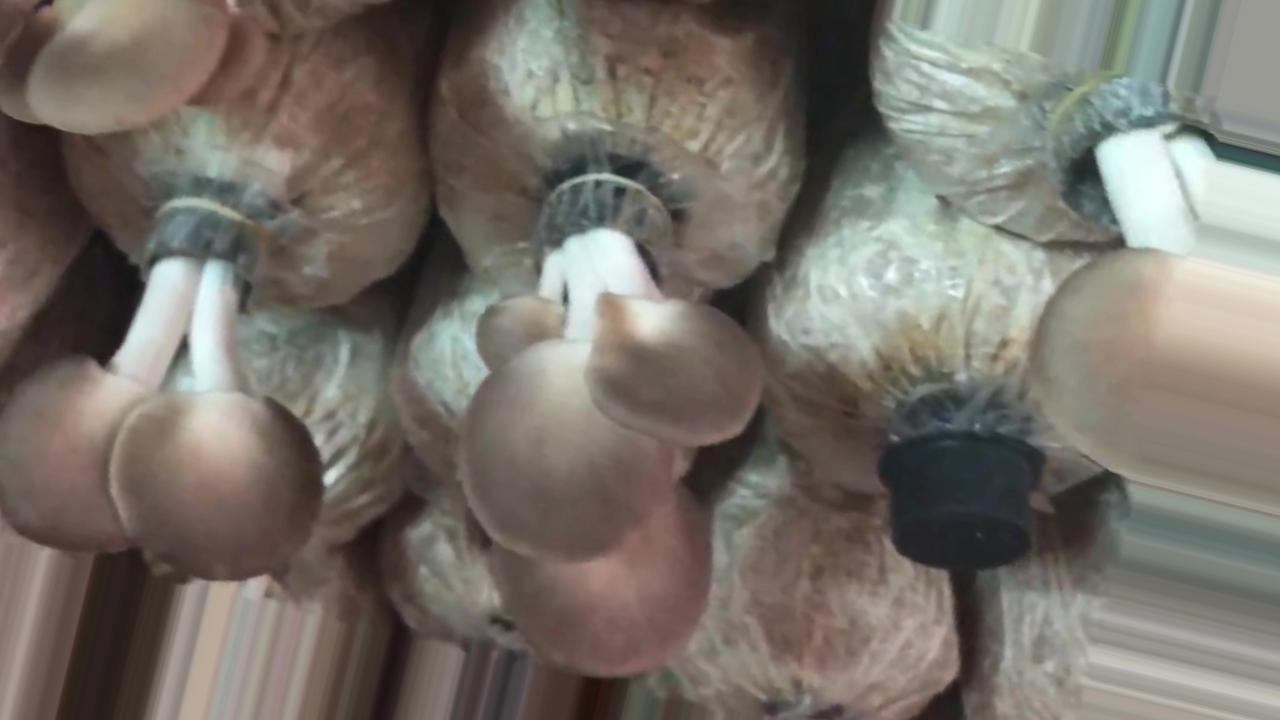nam: (458, 180, 759, 677), (1, 199, 325, 581), (1033, 77, 1280, 512), (5, 1, 231, 133)
